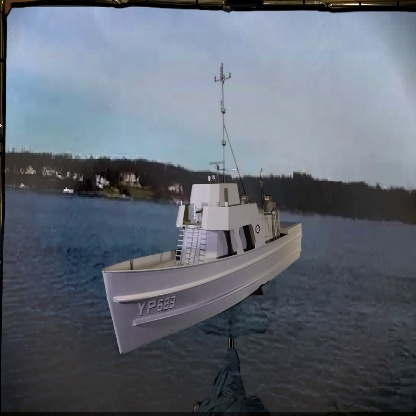YP689: (100, 60, 303, 356)
